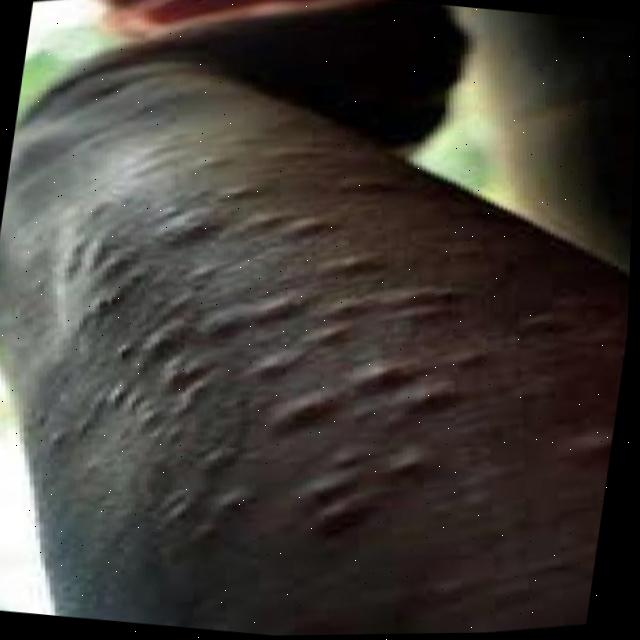Eczema: (0, 82, 637, 640)
